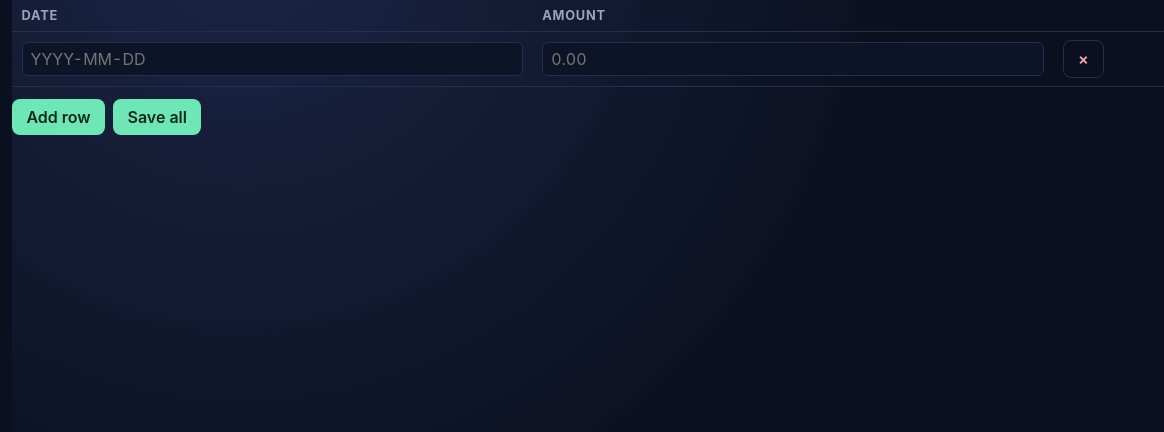
BulkGrid › saves all valid rows in one action
Type "2026-01-01" into the field named "Date row 1". click: (272, 59)
box: [22,42,523,76]
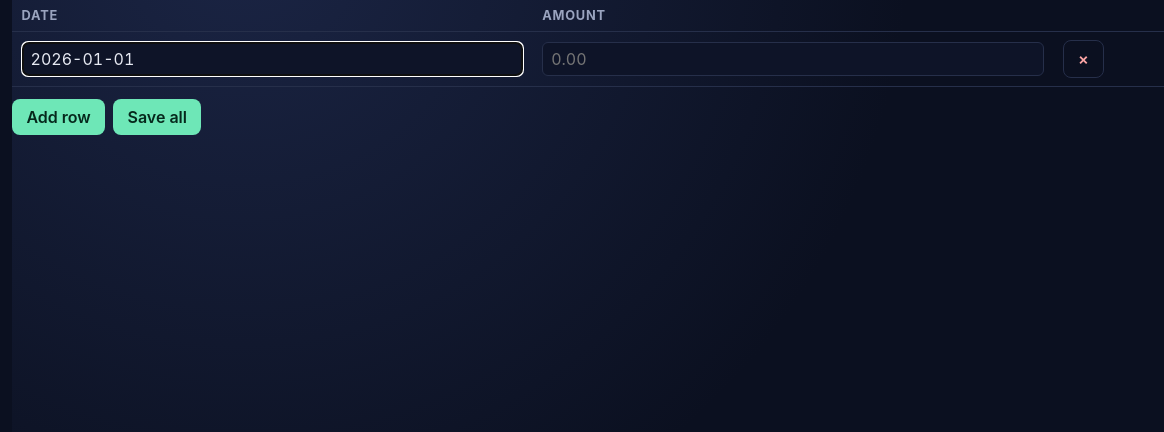
Type "10.00" into the field named "Amount row 1". click: (793, 59)
box: [542,42,1044,76]
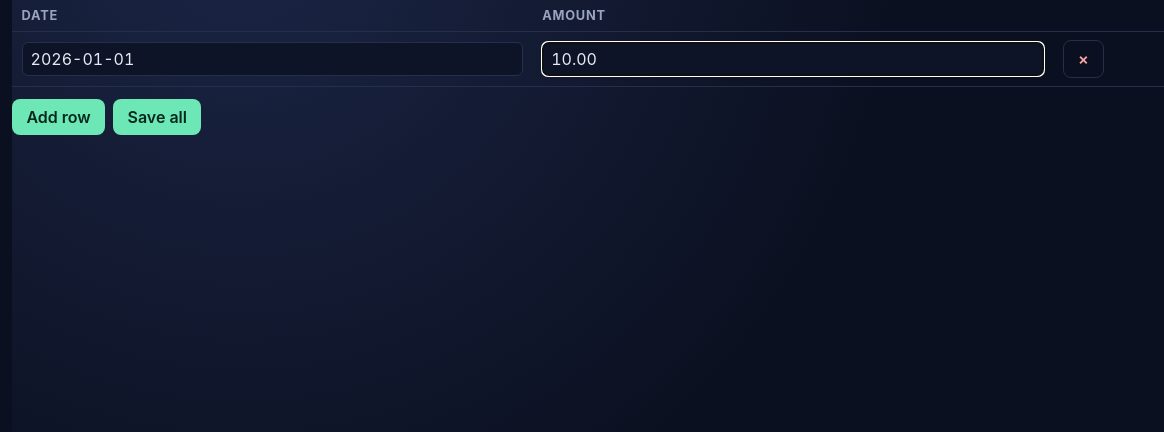
Click the button "Save all". click: (157, 117)
box: [113,99,201,135]
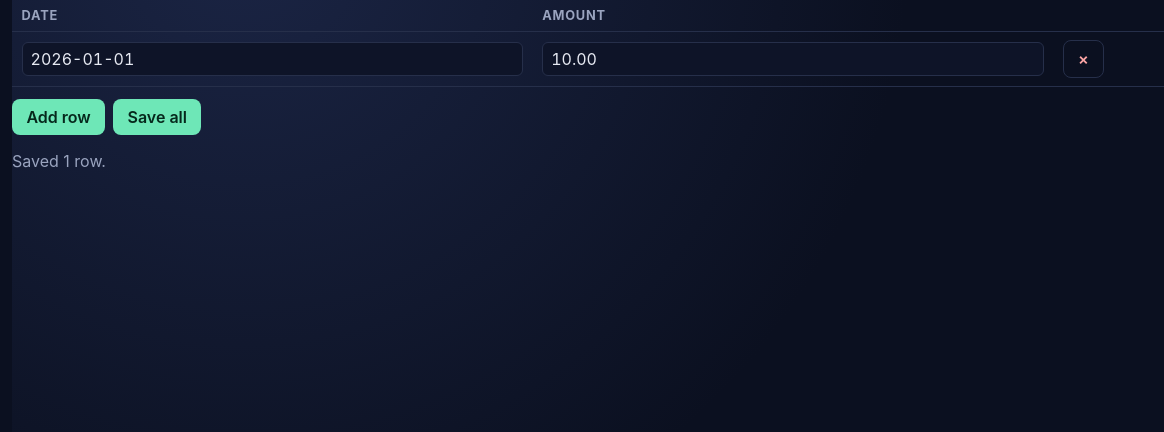
Result: the text "Saved 1 row." is shown at [12,151,106,171]
